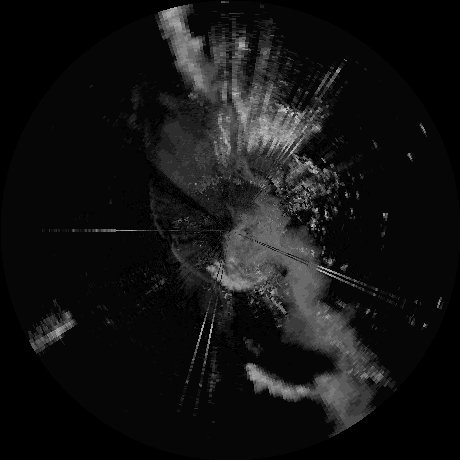frontgust: (170, 244, 225, 293), (148, 194, 165, 242)
